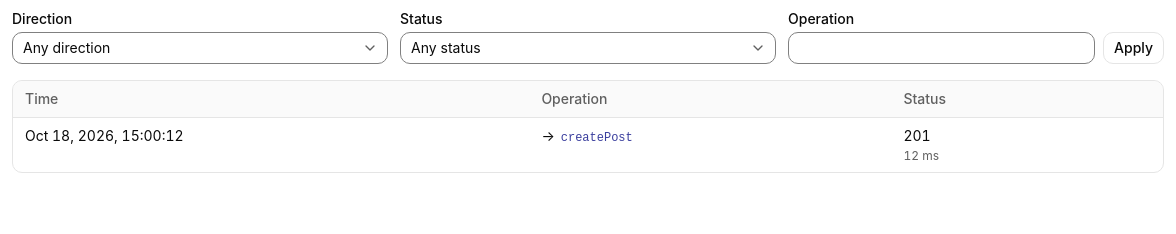
Test: the Request log › filters by direction, status class and operation, which change the request and the filters
Select "Received" in the dropdown labelled "Direction" at (200, 48), box x1=12 y1=32 x2=388 y2=64
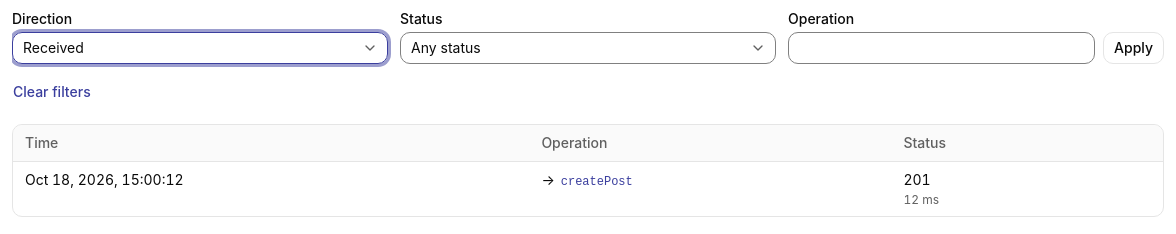
Select "2xx" in the dropdown labelled "Status" at (588, 48), box x1=400 y1=32 x2=776 y2=64
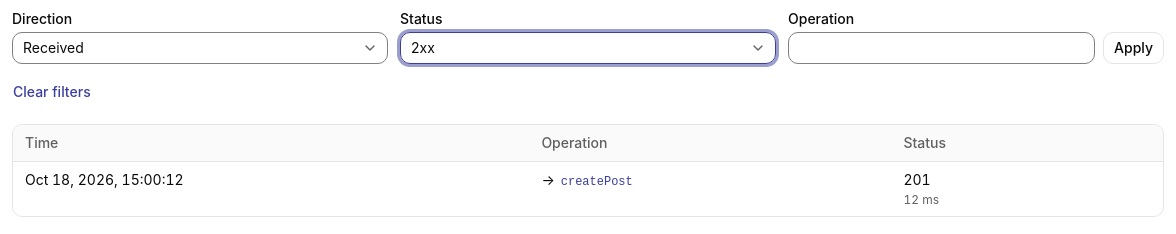
Type "  createPost " into the field labelled "Operation" at (942, 48), box x1=788 y1=32 x2=1095 y2=64
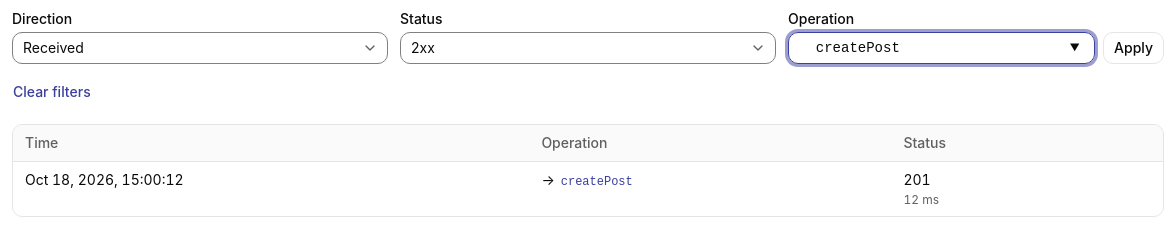
Click the button "Apply" at (1134, 48), box x1=1103 y1=32 x2=1164 y2=64
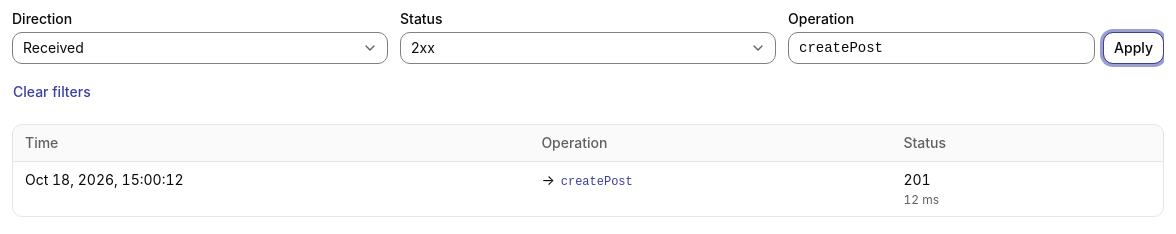
Note: "No answer" is the status class none.
Select "No answer" in the dropdown labelled "Status" at (588, 48), box x1=400 y1=32 x2=776 y2=64
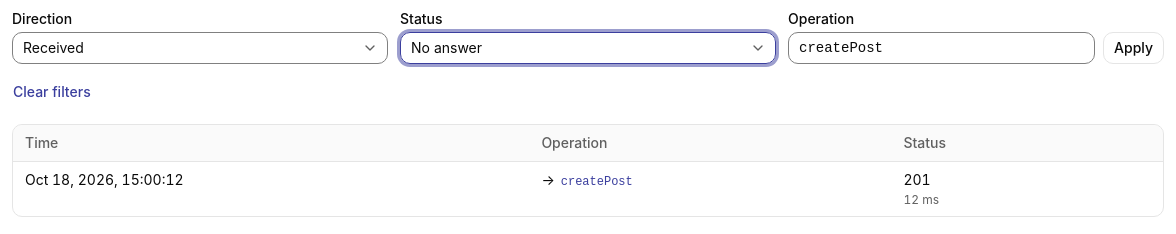
Click the button "Clear filters" at (52, 92), box x1=12 y1=76 x2=92 y2=108
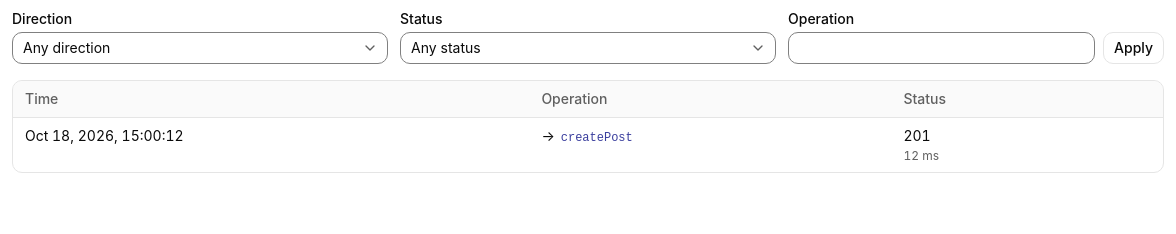
expect the field labelled "Operation" is empty: met, box x1=788 y1=32 x2=1095 y2=64
